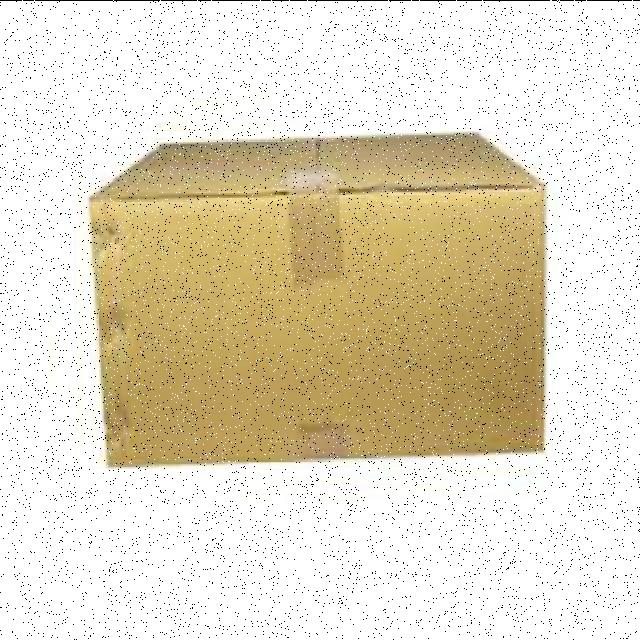normal: (84, 130, 554, 468)
